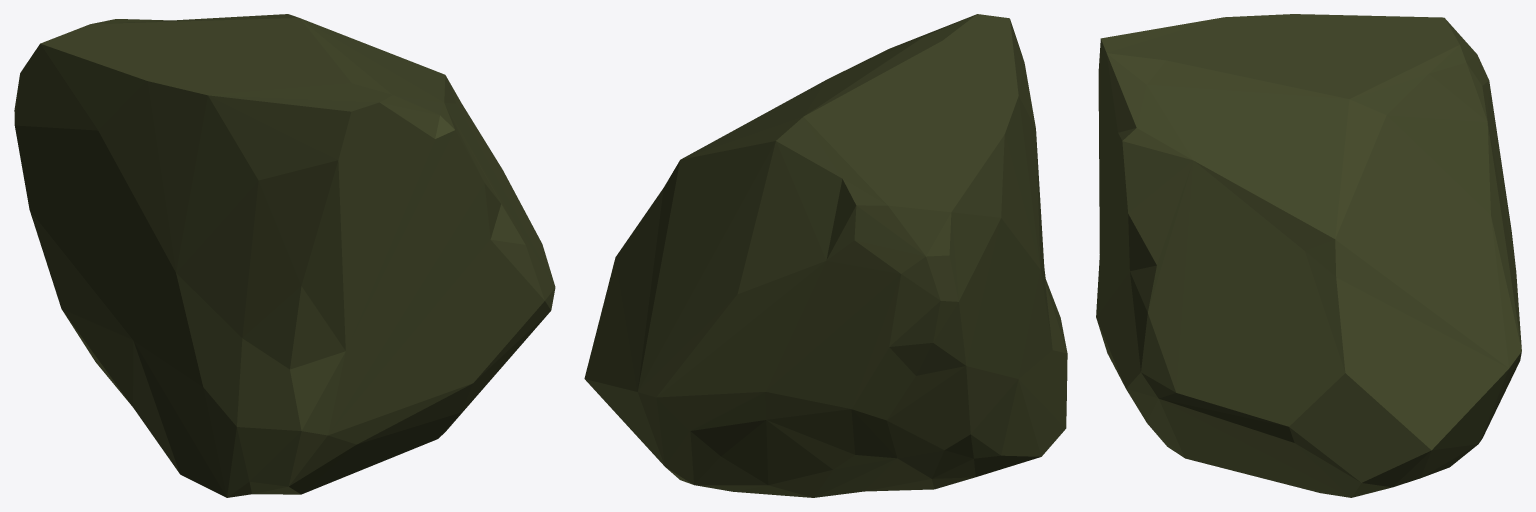
The model's file is SM_small_rock_44.fbx.
3 views of the same model, side by side, from view 1: azimuth 30°, elevation 25°; view 2: azimuth 150°, elevation 25°; view 3: azimuth 270°, elevation 25° (orthographic). The views are drawn at different scales.
Visible parts, largest first — view 1: small_rock_44; view 2: small_rock_44; view 3: small_rock_44.
Boxes of the visible parts, x1,y1,x2,y2 form: small_rock_44: [14, 14, 555, 497]; small_rock_44: [584, 14, 1067, 497]; small_rock_44: [1096, 14, 1521, 497].
Size of the model in its own units: 16.5 by 14.09 by 15.21.
